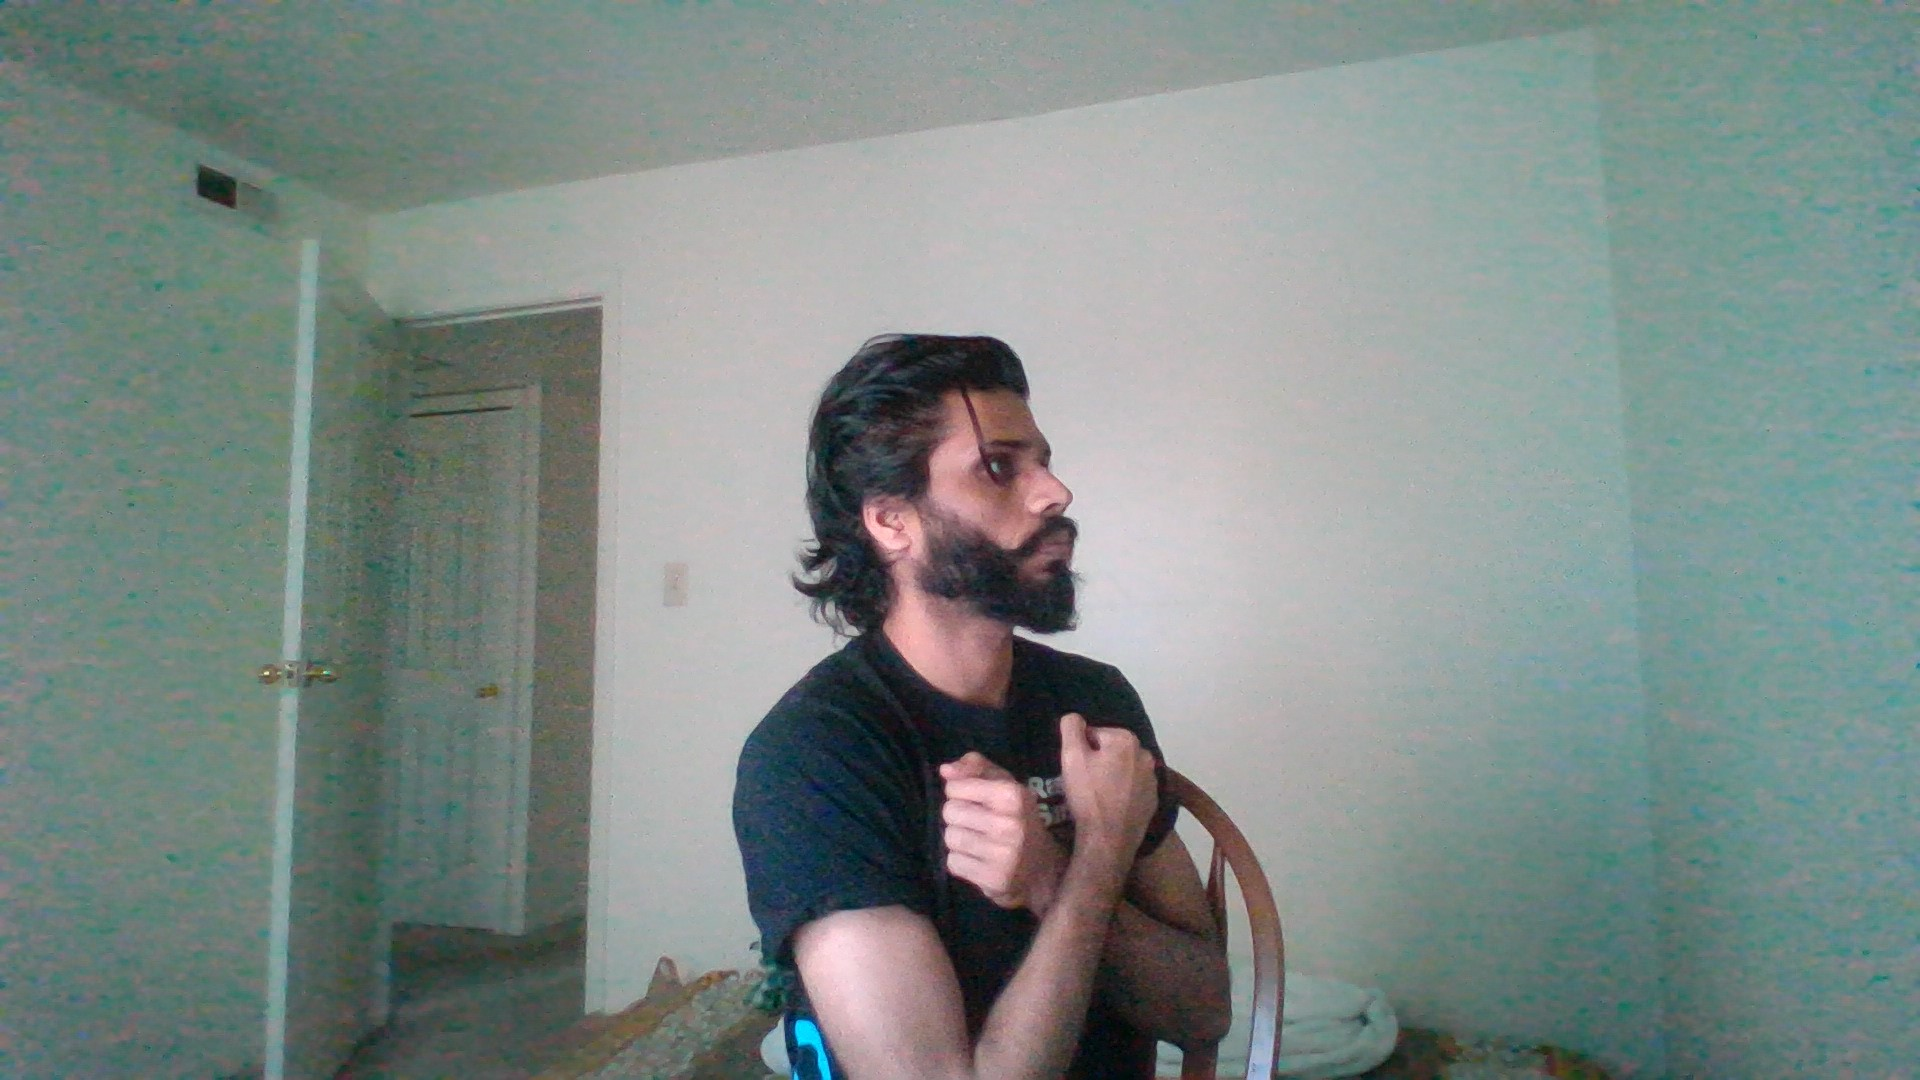Love: (907, 700, 1182, 1035)
